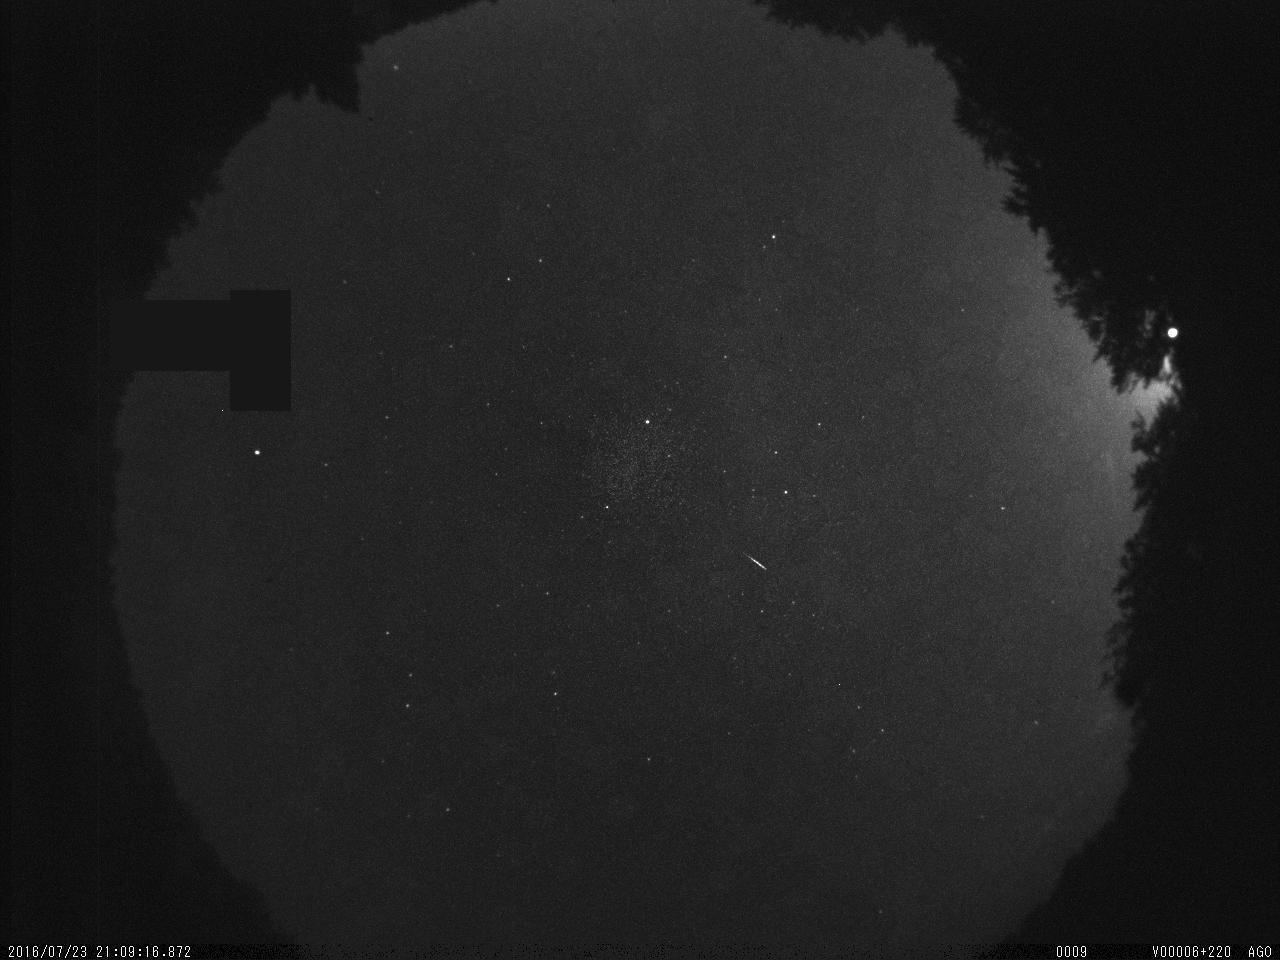meteor: (737, 545, 775, 576)
